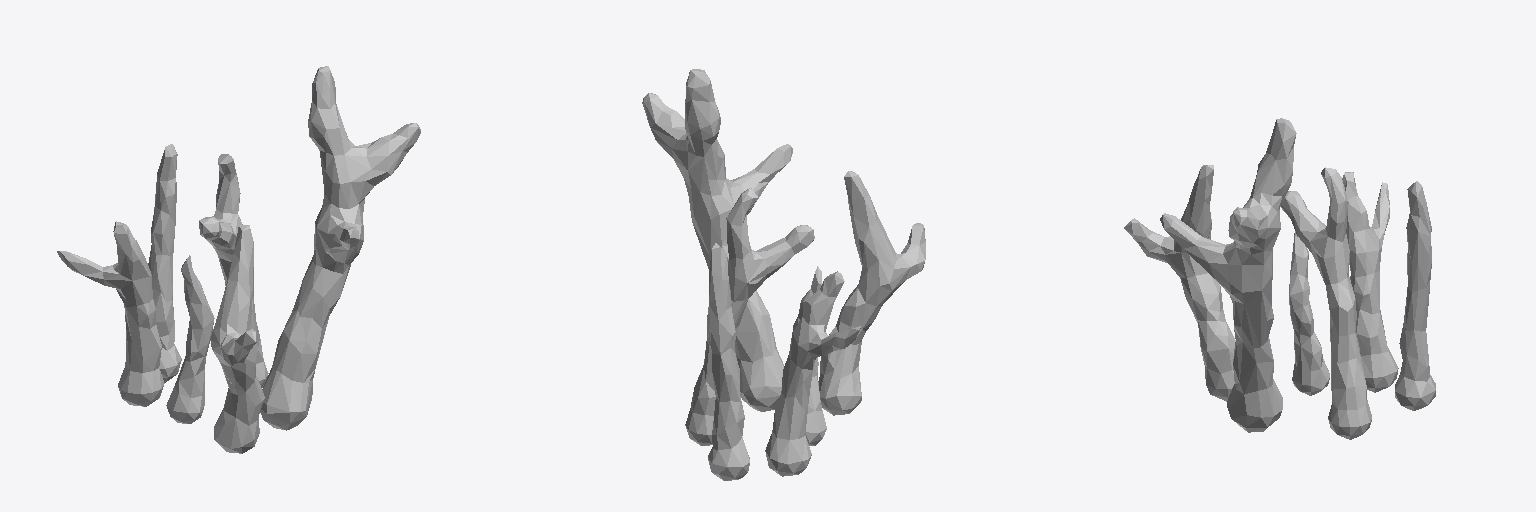
File: Coral3.obj
3 renders of one model, left to right at view 1: azimuth 30°, elevation 25°; view 2: azimuth 150°, elevation 25°; view 3: azimuth 270°, elevation 25°, orthographic.
Visible parts, largest first — view 1: Coral.003_CoralMesh.004; view 2: Coral.003_CoralMesh.004; view 3: Coral.003_CoralMesh.004.
Part boxes in pixels (bbox=[...]): Coral.003_CoralMesh.004: bbox=[57, 66, 420, 453]; Coral.003_CoralMesh.004: bbox=[642, 69, 925, 480]; Coral.003_CoralMesh.004: bbox=[1124, 118, 1435, 439].
Size of the model in its own units: 0.3565 by 0.3969 by 0.3318.